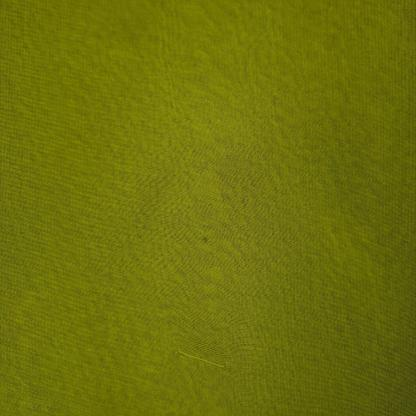spot: (200, 232, 213, 248)
